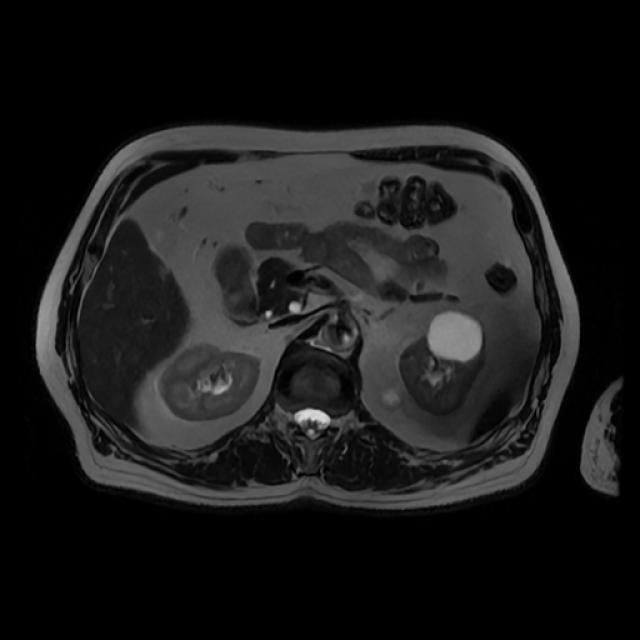sag: (158, 343, 262, 424)
sol: (378, 310, 487, 416)
